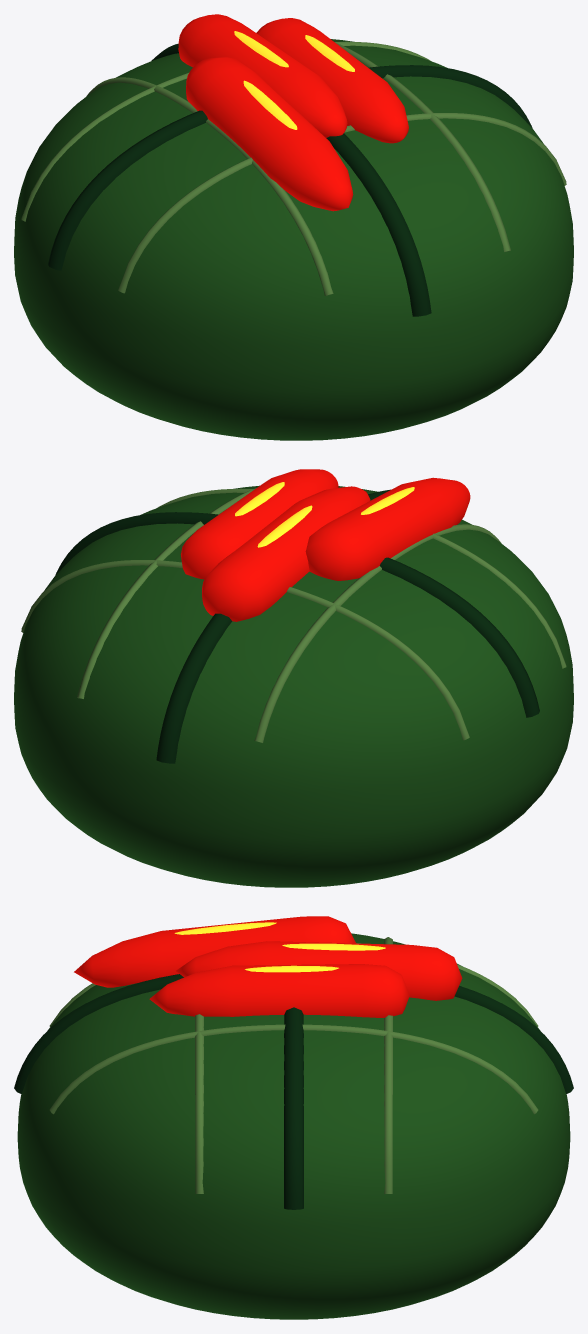
The model's file is pu_vulcan_shot.glb.
The picture shows the model from 3 angles, top to bottom: view 1: azimuth 30°, elevation 25°; view 2: azimuth 150°, elevation 25°; view 3: azimuth 270°, elevation 25°; orthographic projection. The views are drawn at different scales.
Parts seen in each view (by area): view 1: orb, pod, orb_groove_2, orb_seam_2, pod_core; view 2: orb, pod, orb_groove_2, orb_seam_2, pod_core; view 3: orb, pod, orb_groove_2, orb_seam_2, pod_core.
Boxes of the visible parts, x1,y1,x2,y2 form: orb: (14, 39, 573, 440); pod: (178, 14, 408, 211); orb_groove_2: (48, 43, 532, 316); orb_seam_2: (21, 41, 566, 295); pod_core: (234, 31, 354, 129); orb: (14, 485, 573, 887); pod: (181, 469, 470, 621); orb_groove_2: (55, 489, 539, 763); orb_seam_2: (21, 488, 566, 742); pod_core: (235, 482, 414, 547); orb: (17, 933, 570, 1319); pod: (74, 916, 462, 1017); orb_groove_2: (14, 974, 573, 1209); orb_seam_2: (49, 937, 538, 1193); pod_core: (174, 922, 385, 972).
Bounding box in the file's own units: 20.88 × 13.24 × 21.27.
